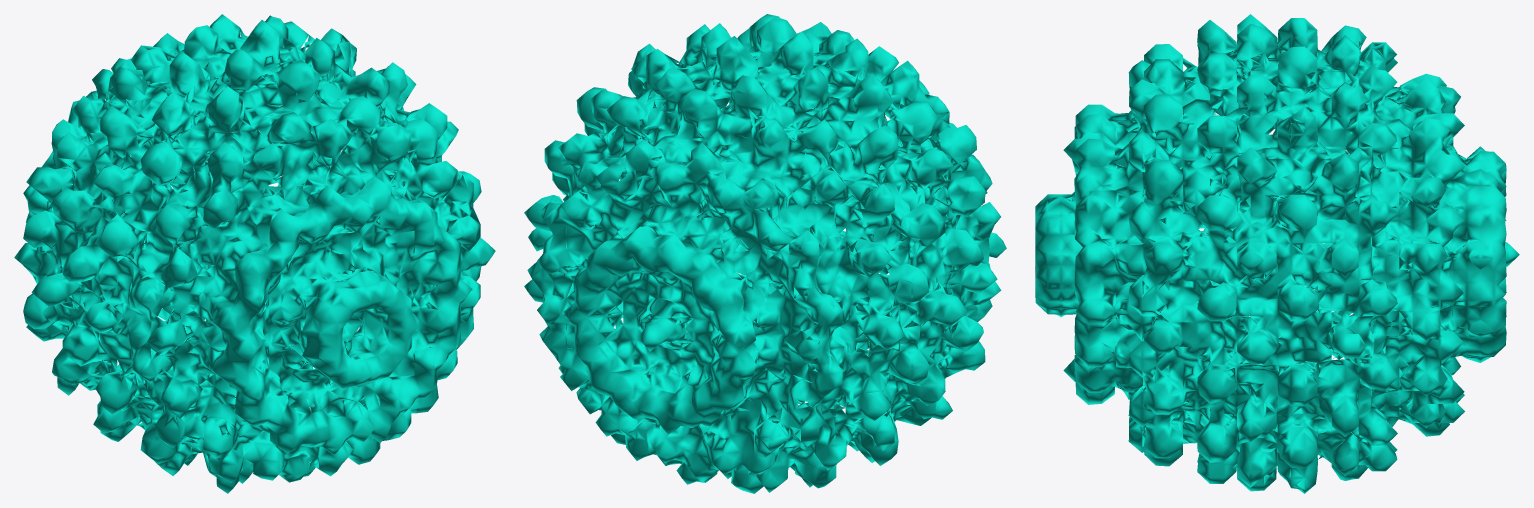
Rendered from ifs_mandelbulb_raymarched_mesh_1780766286706.glb.
3 views of the same model, side by side, from view 1: azimuth 30°, elevation 25°; view 2: azimuth 150°, elevation 25°; view 3: azimuth 270°, elevation 25° (orthographic).
Parts seen in each view (by area): view 1: mandelbulb_p16; view 2: mandelbulb_p16; view 3: mandelbulb_p16.
Boxes of the visible parts, x1,y1,x2,y2 form: mandelbulb_p16: (14, 14, 495, 493); mandelbulb_p16: (524, 14, 1006, 493); mandelbulb_p16: (1035, 14, 1519, 493).
Size of the model in its own units: 2.11 by 2.11 by 2.1.
